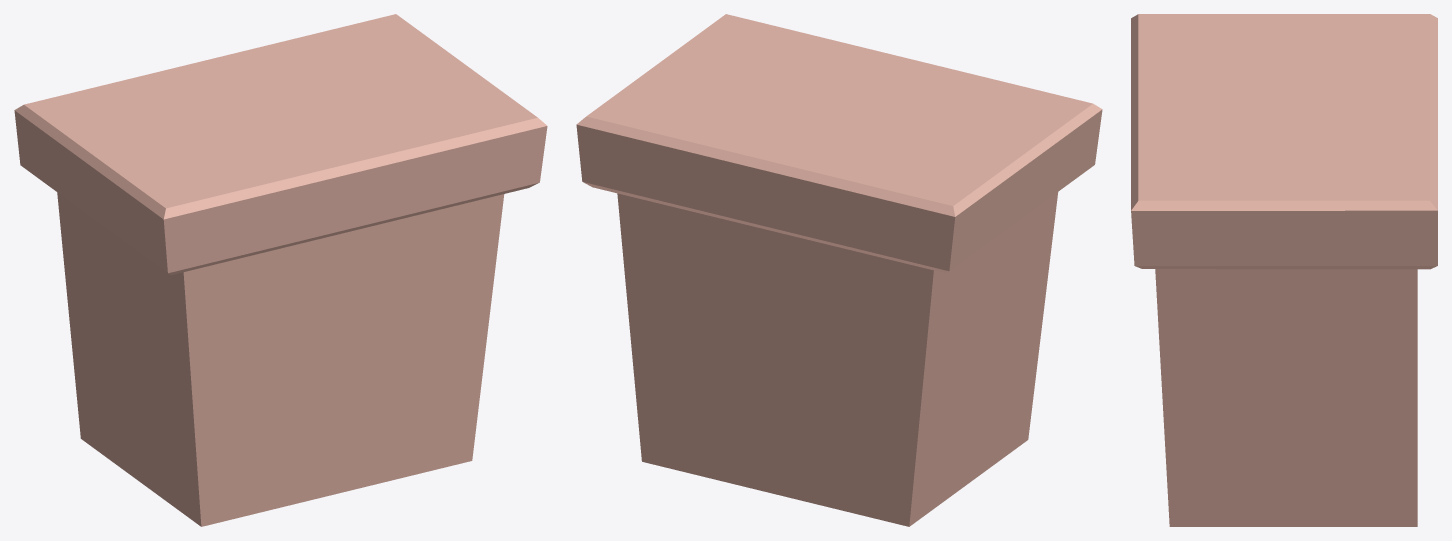
Rendered from soundboard table.fbx.
The picture shows the model from 3 angles, left to right: view 1: azimuth 30°, elevation 25°; view 2: azimuth 150°, elevation 25°; view 3: azimuth 270°, elevation 25°; orthographic projection. The views are drawn at different scales.
Visible parts, largest first — view 1: pCube44; view 2: pCube44; view 3: pCube44.
Part boxes in pixels (x1,y1,x2,y2): pCube44: [14, 14, 547, 526]; pCube44: [576, 14, 1102, 526]; pCube44: [1131, 14, 1437, 526].
Bounding box in the file's own units: 176 × 149 × 118.
